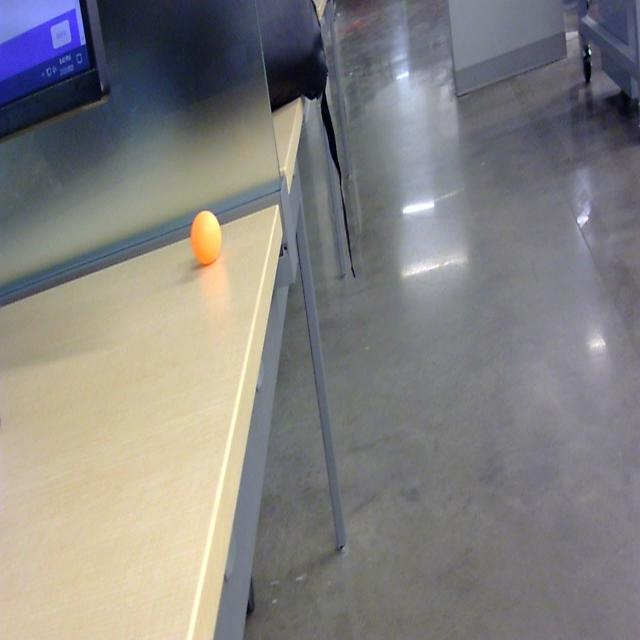ball: (190, 209, 222, 267)
